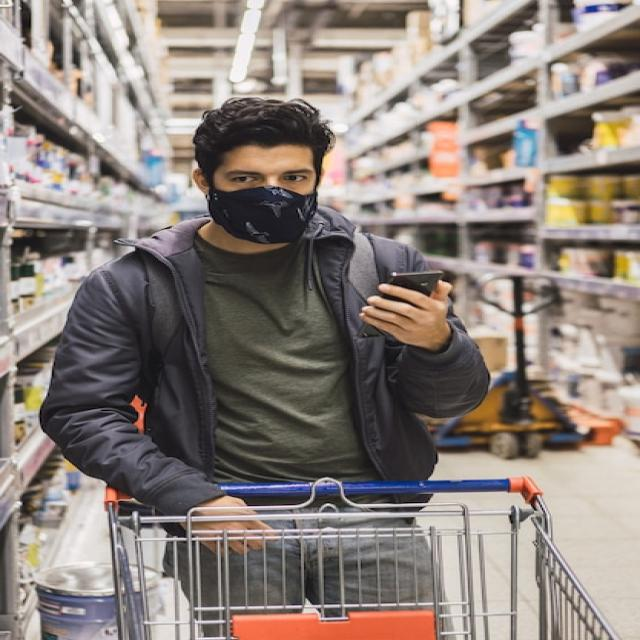Person: (40, 97, 491, 640)
